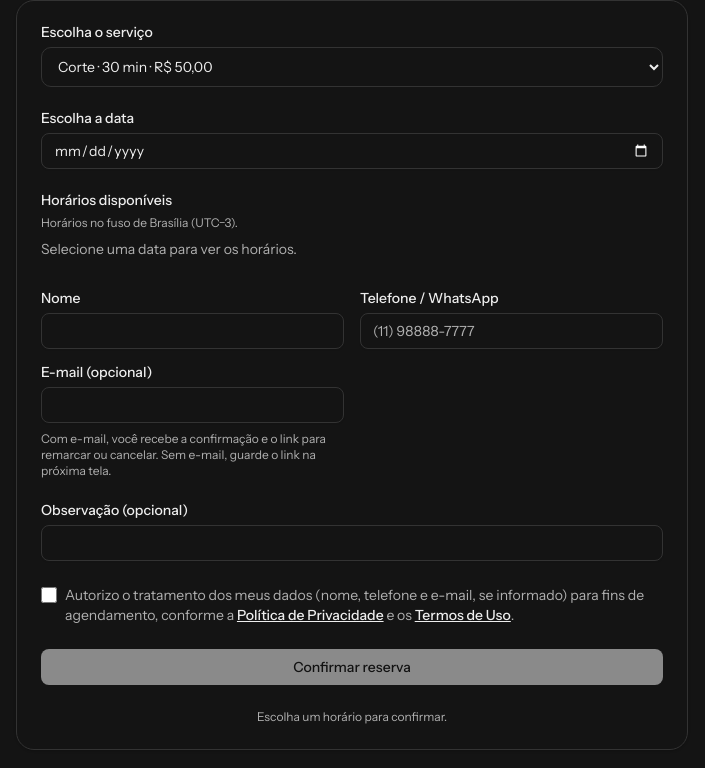
it: BookingWidget › drops the chosen slot when the server says it no longer exists
Type "2026-10-20" into the date field labelled "Escolha a data".
click(352, 151); type("2026-10-20")  # box 41,133 -> 663,169
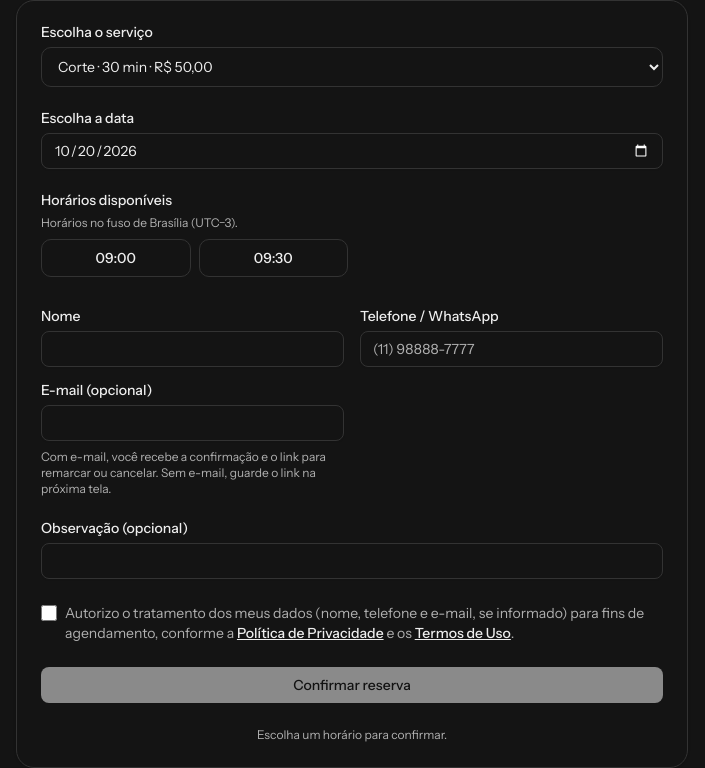
Click the button "09:00".
click(116, 258)  # box 41,239 -> 190,277
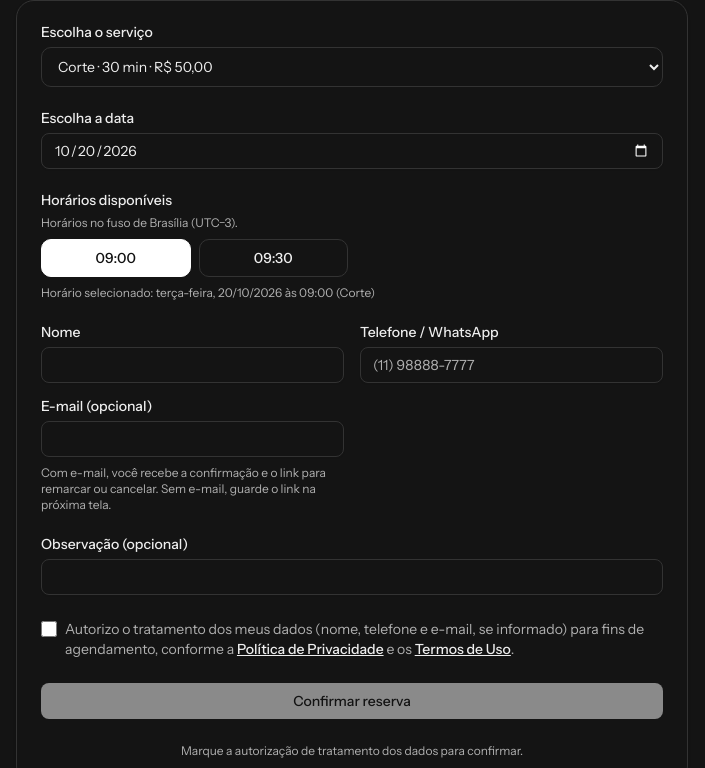
Type "Maria Souza" into the field labelled "Nome".
click(192, 365); type("Maria Souza")  # box 41,347 -> 344,383
Type "11987654321" into the field labelled "Telefone / WhatsApp".
click(512, 365); type("11987654321")  # box 360,347 -> 663,383
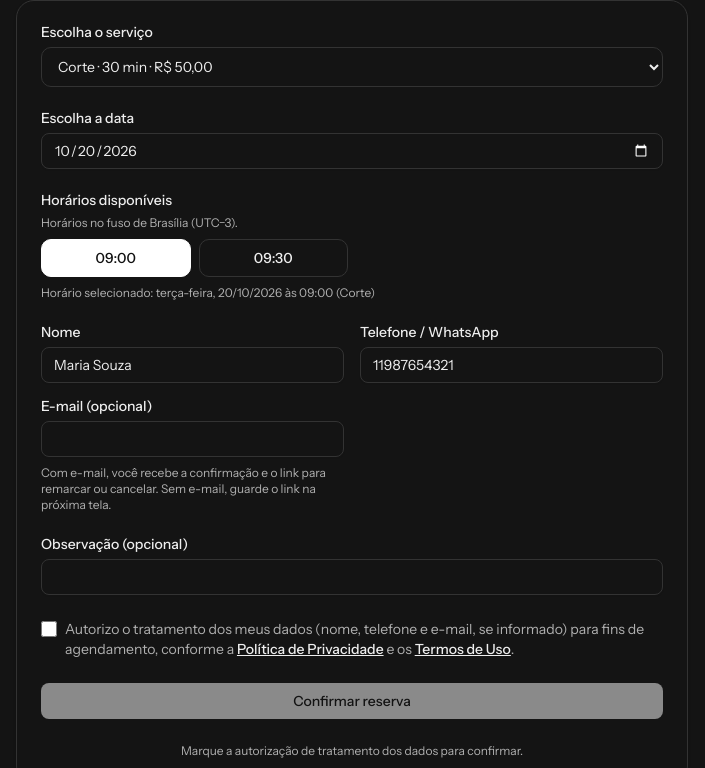
Type "maria@example.com" into the field labelled "E-mail (opcional)".
click(192, 439); type("maria@example.com")  # box 41,421 -> 344,457
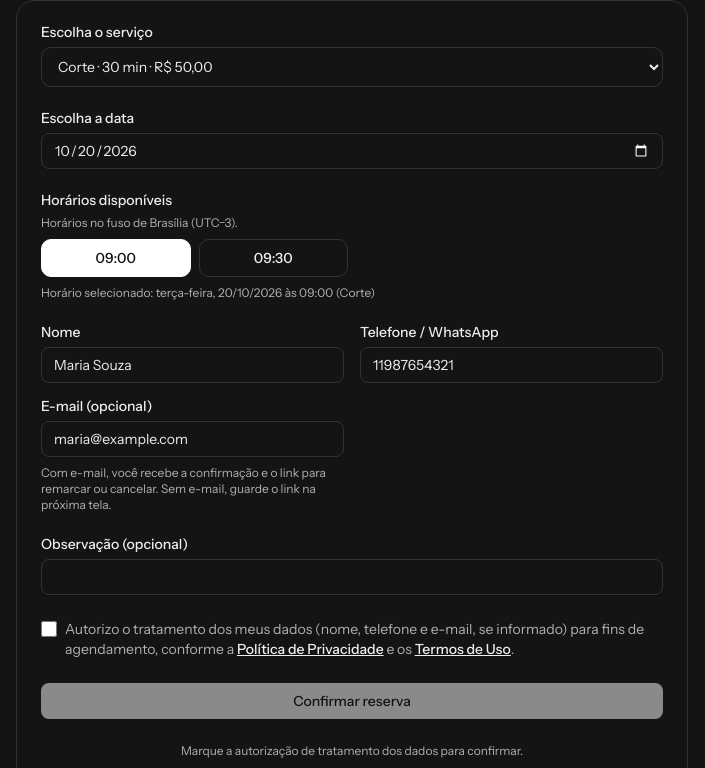
Click the checkbox.
click(49, 629)  # box 41,621 -> 57,637
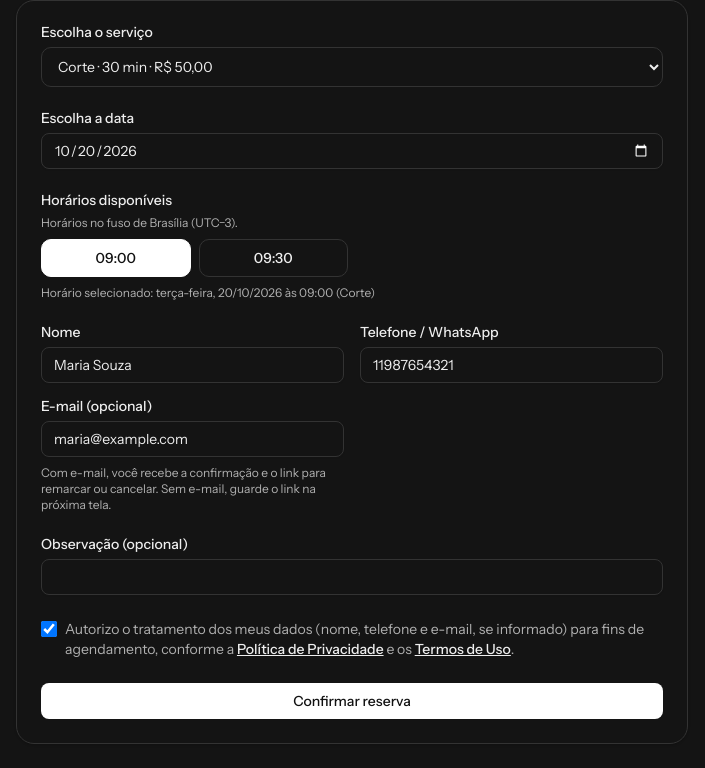
Click the button "Confirmar reserva".
click(352, 701)  # box 41,683 -> 663,719
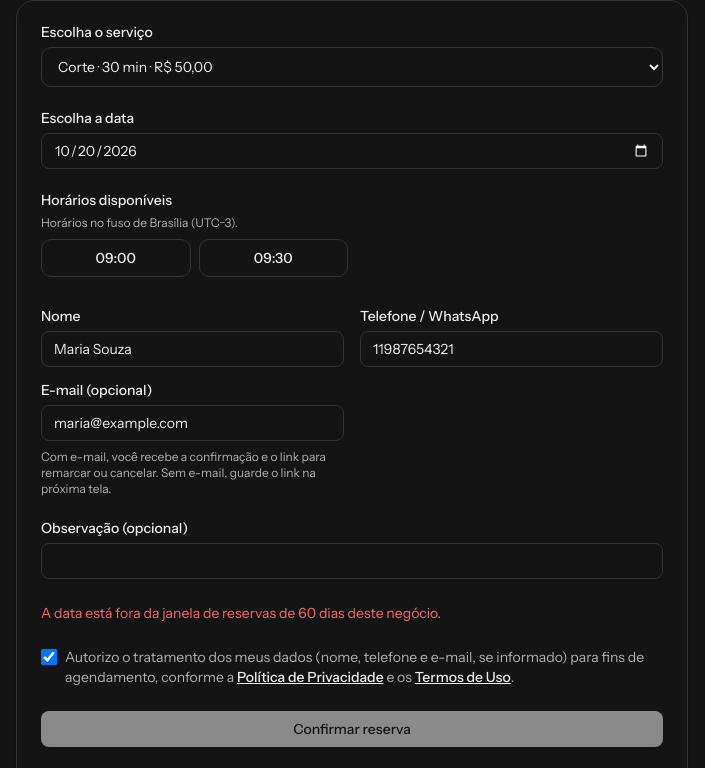
Check: the text "A data está fora da janela de reservas de 60 dias deste negócio." is shown, box 41,604 -> 441,622
